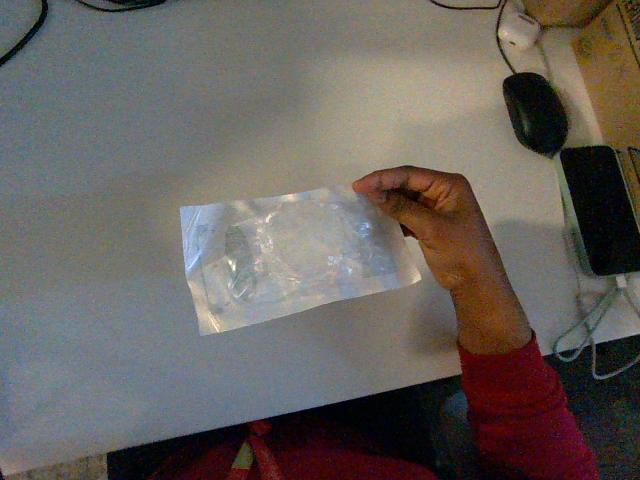gallipot: (181, 187, 419, 334)
